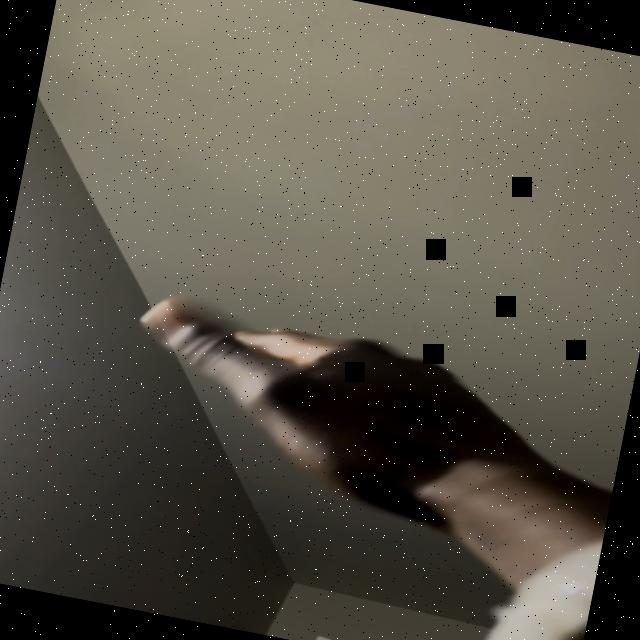Paper: (111, 296, 574, 546)
